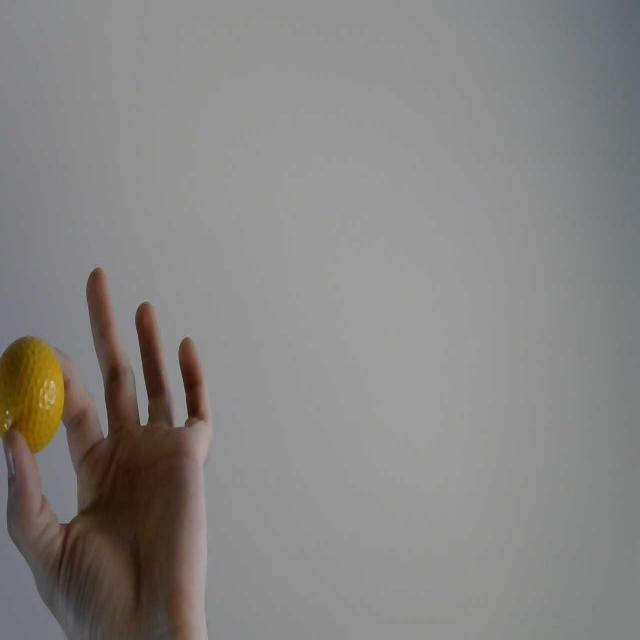golfball: (0, 330, 65, 455)
